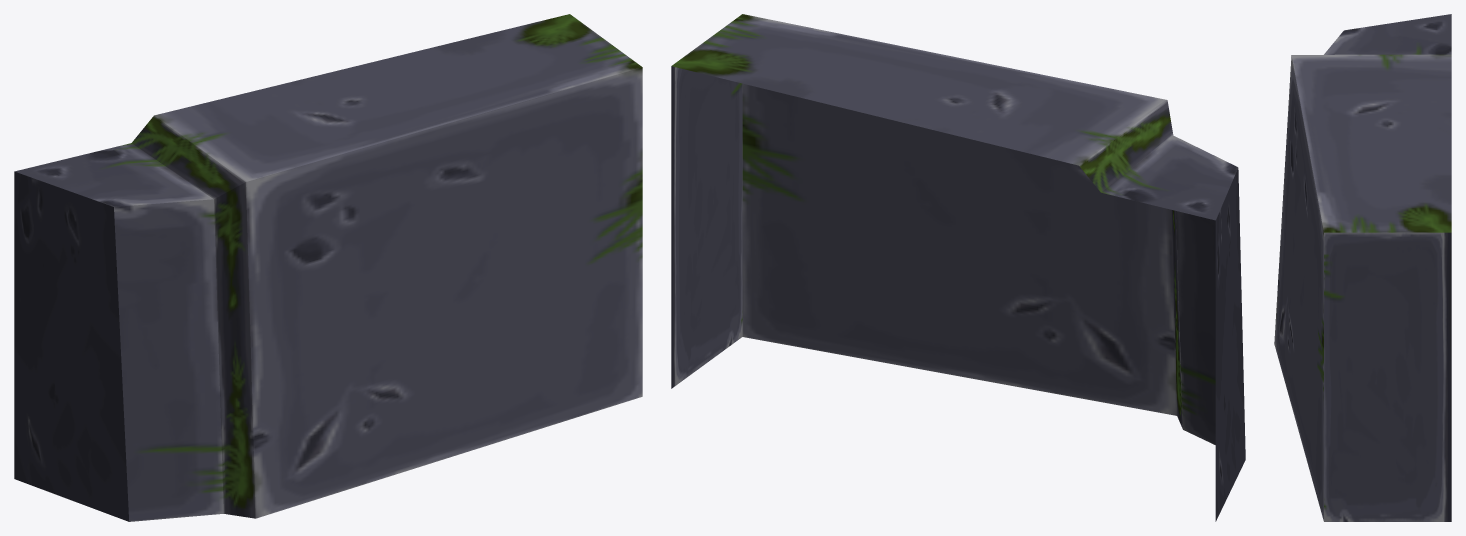
The model's file is MOD_WallTrim_01_E_straight_edge_L.fbx.
3 views of the same model, side by side, from view 1: azimuth 30°, elevation 25°; view 2: azimuth 150°, elevation 25°; view 3: azimuth 270°, elevation 25° (orthographic). The views are drawn at different scales.
Parts seen in each view (by area): view 1: MOD_WallTrim_01_E_straight_edge_L; view 2: MOD_WallTrim_01_E_straight_edge_L; view 3: MOD_WallTrim_01_E_straight_edge_L.
Part boxes in pixels (x1,y1,x2,y2): MOD_WallTrim_01_E_straight_edge_L: [14, 14, 642, 521]; MOD_WallTrim_01_E_straight_edge_L: [671, 14, 1245, 521]; MOD_WallTrim_01_E_straight_edge_L: [1274, 14, 1451, 521].
Size of the model in its own units: 88.23 by 50 by 27.78.
